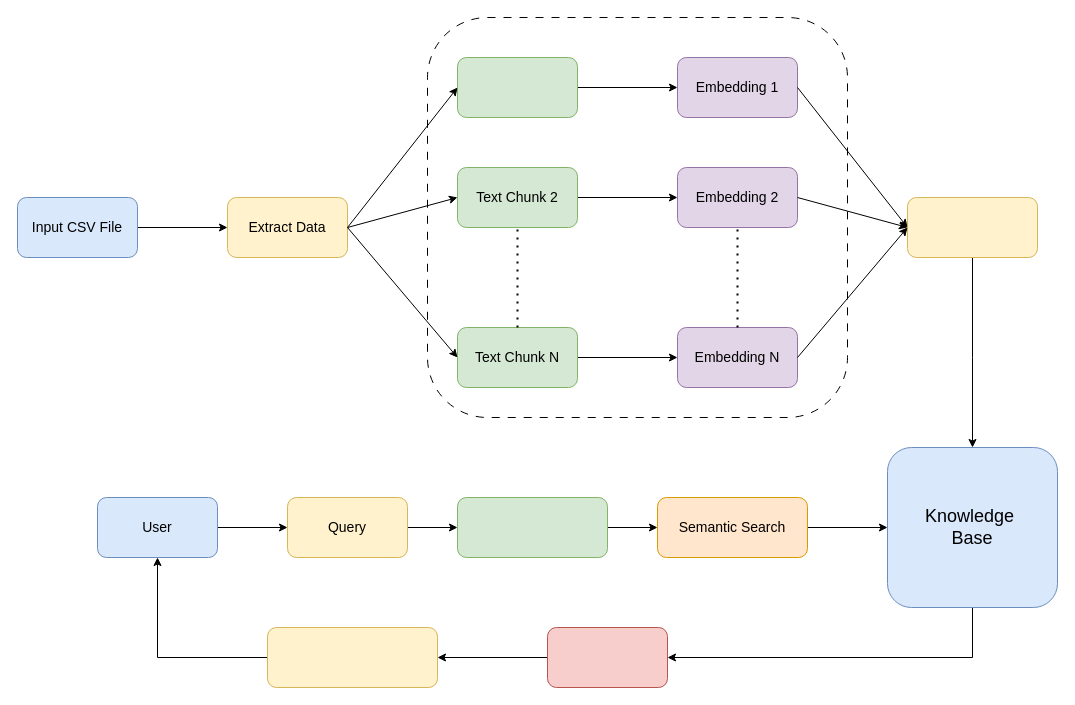
Some shapes in this 1075 by 705 pixel diagram are drawn without their labels. The centre of each missing label's shape, as x and y in pixels:
Build Semantic Index: pixel 972 227
LLaMA 2 Model: pixel 352 657
Query Embedding: pixel 532 527
Result: pixel 607 657
Text Chunk 1: pixel 517 87
